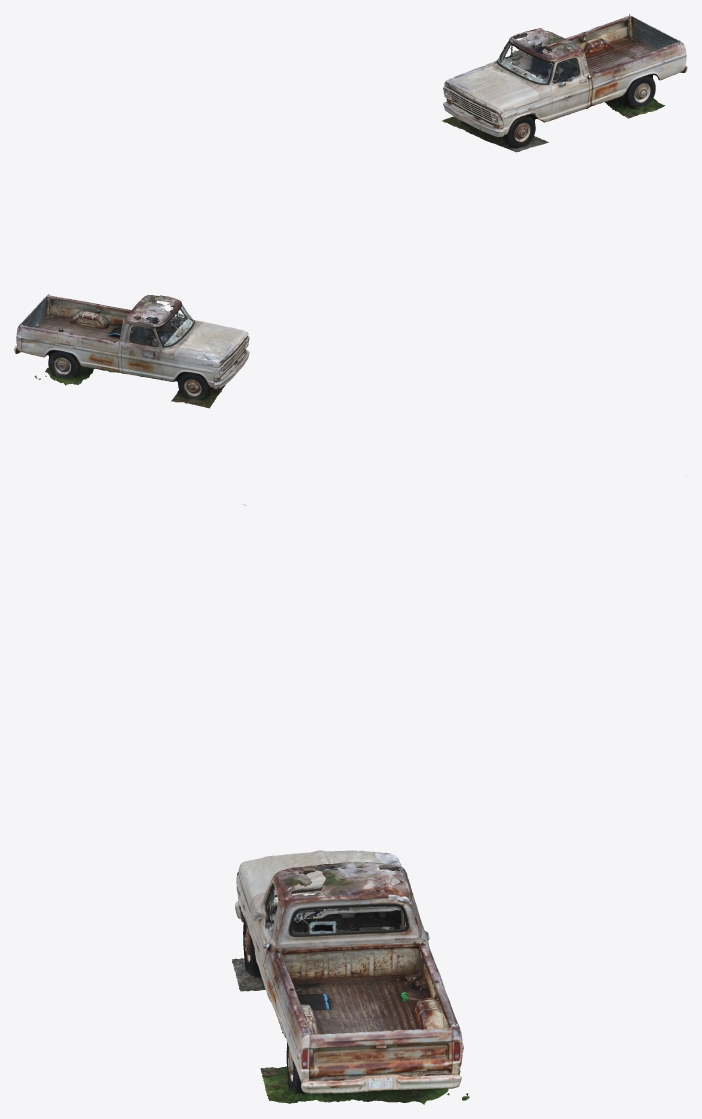
The model's file is farm_truck_free_raw_scan.glb.
3 renders of one model, top to bottom at view 1: azimuth 30°, elevation 25°; view 2: azimuth 150°, elevation 25°; view 3: azimuth 270°, elevation 25°, orthographic. The views are drawn at different scales.
Visible parts, largest first — view 1: Object_2, Object_3, Object_4, Object_6, Object_7, Object_5; view 2: Object_6, Object_3, Object_2, Object_7, Object_5, Object_4; view 3: Object_5, Object_4, Object_2, Object_3, Object_7, Object_6, Object_8.
Boxes of the visible parts, bbox=[...] form: Object_2: bbox=[497, 17, 685, 120]; Object_3: bbox=[443, 20, 686, 145]; Object_4: bbox=[443, 14, 646, 152]; Object_6: bbox=[442, 16, 685, 151]; Object_7: bbox=[443, 18, 687, 149]; Object_5: bbox=[459, 16, 687, 149]; Object_6: bbox=[16, 296, 249, 408]; Object_3: bbox=[25, 297, 249, 404]; Object_2: bbox=[22, 294, 190, 350]; Object_7: bbox=[14, 295, 248, 407]; Object_5: bbox=[14, 295, 244, 404]; Object_4: bbox=[14, 295, 249, 386]; Object_5: bbox=[233, 857, 469, 1104]; Object_4: bbox=[232, 851, 461, 1091]; Object_2: bbox=[252, 862, 449, 1103]; Object_3: bbox=[235, 850, 437, 1102]; Object_7: bbox=[238, 504, 466, 1102]; Object_6: bbox=[232, 850, 462, 1103]; Object_8: bbox=[241, 851, 462, 1101].
Bounding box in the file's own units: 132 × 15.41 × 21.69.
Materials: 1 (1 with a texture image).
